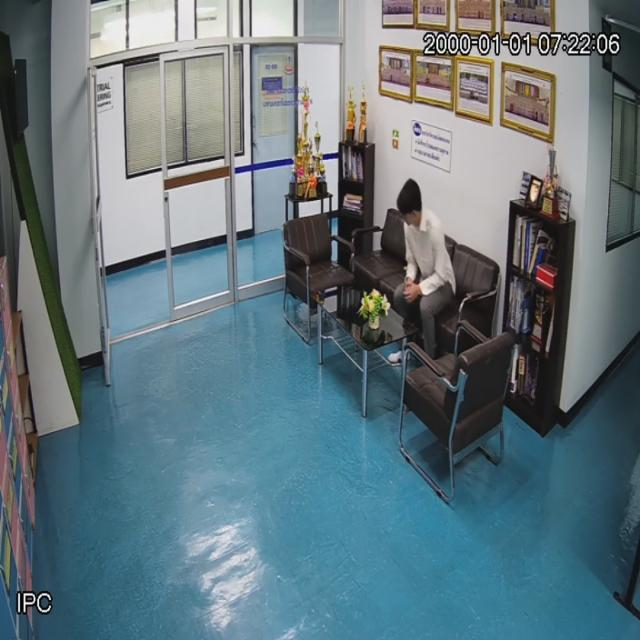normal: (395, 178, 457, 336)
